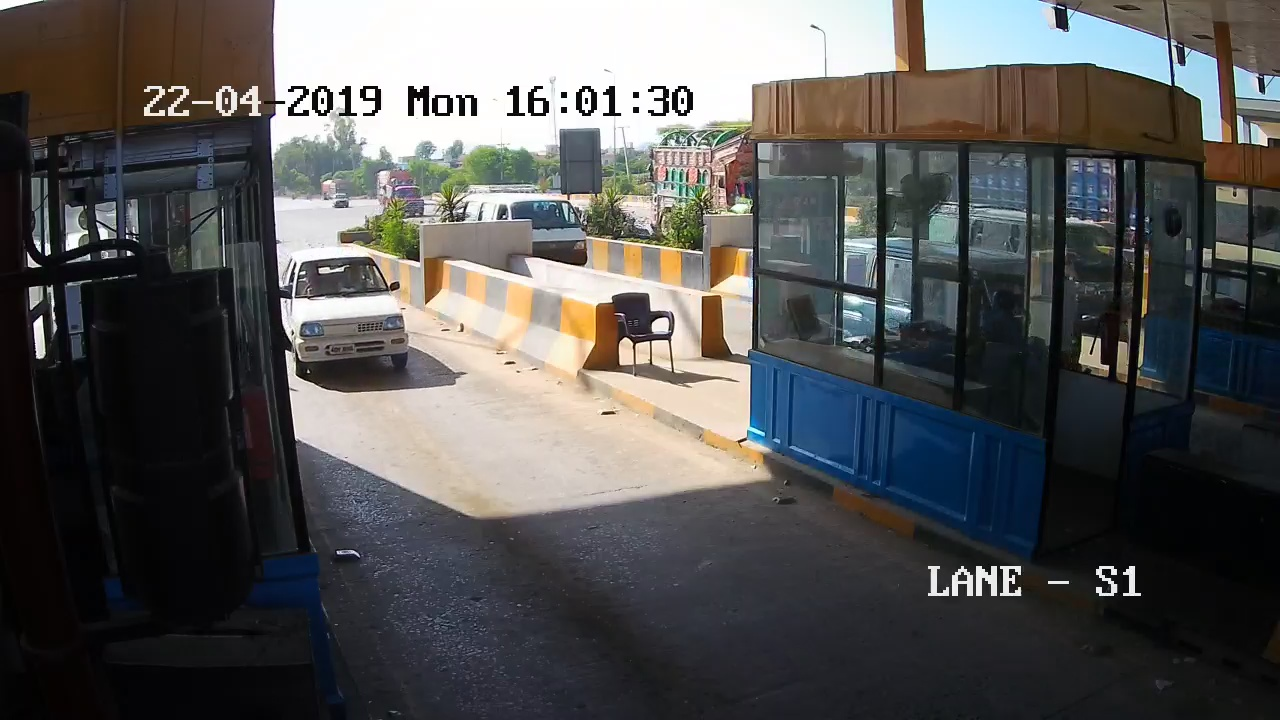car: (273, 239, 429, 385)
